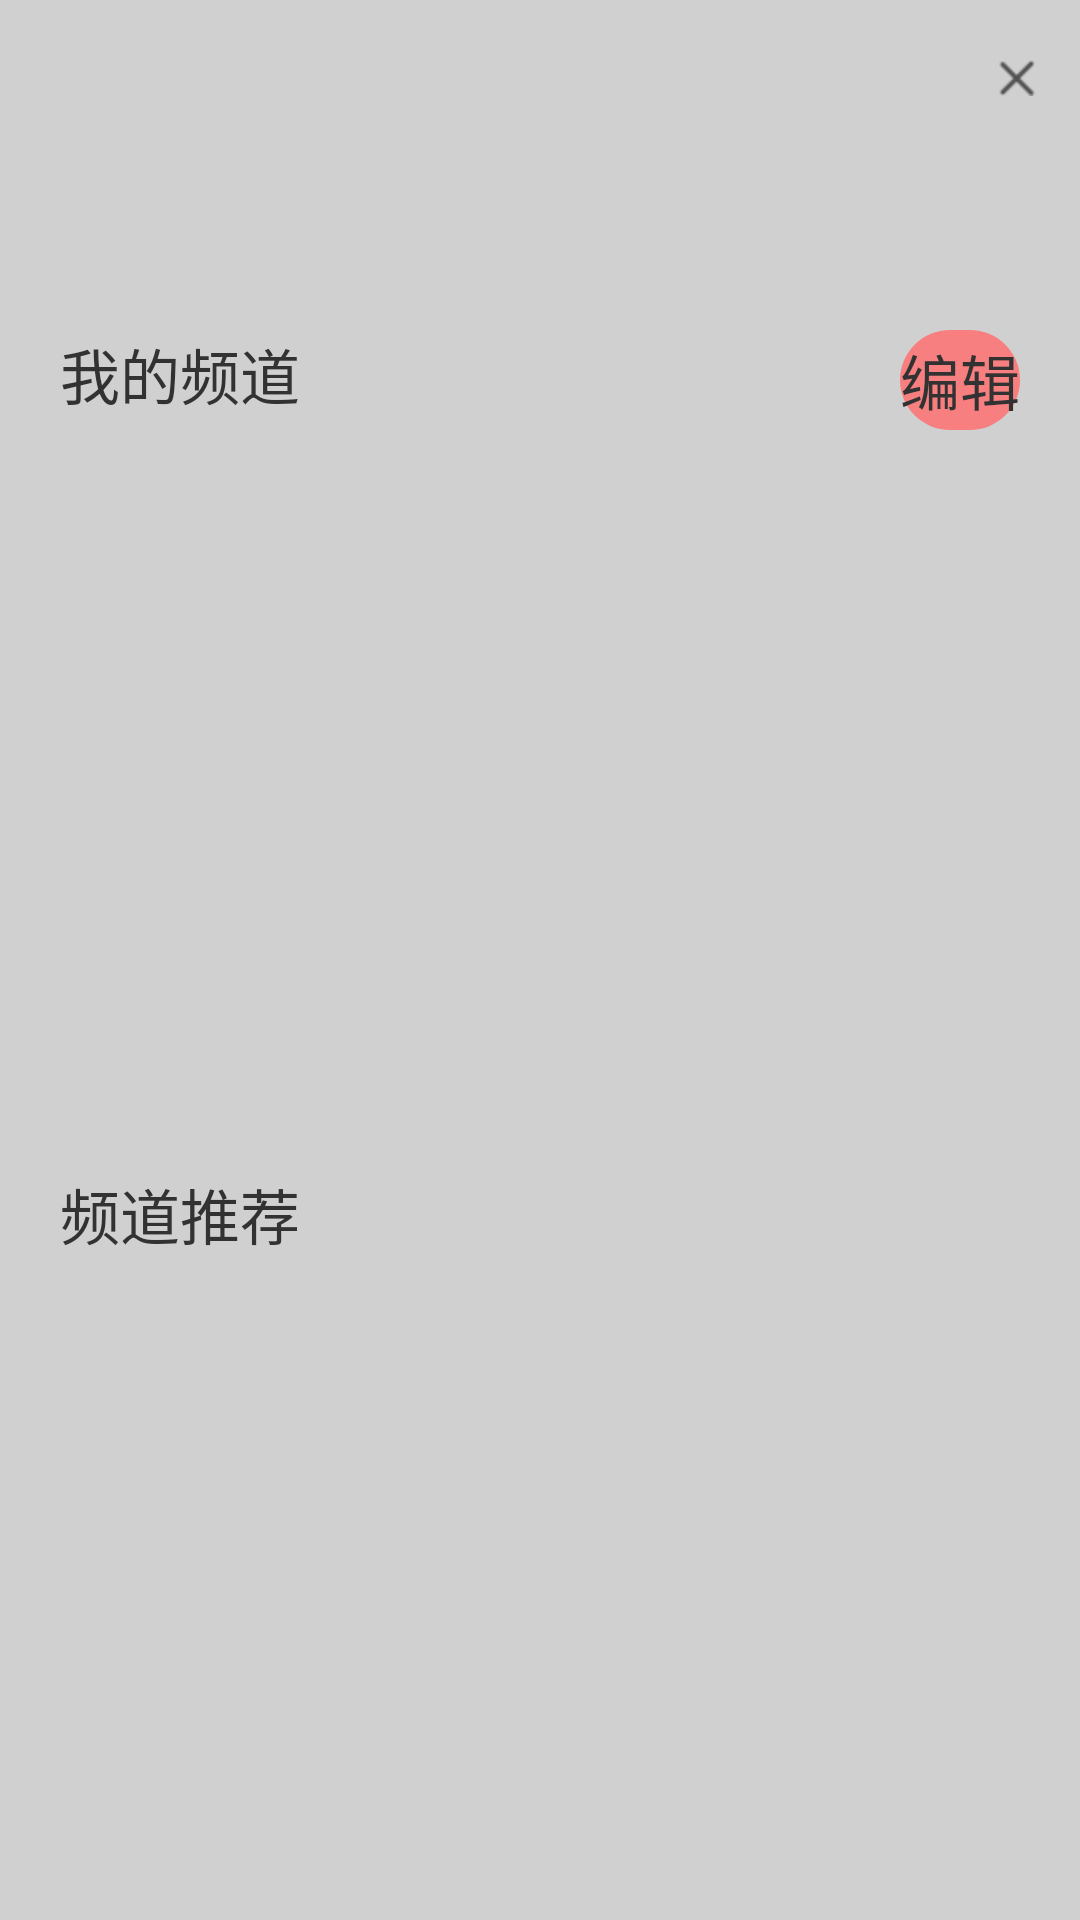

Icon bounding boxes for this 1080px×1920px phone screenshot, format (x1, y1, x2, y2):
select close history day: (1000, 61, 1034, 96)
